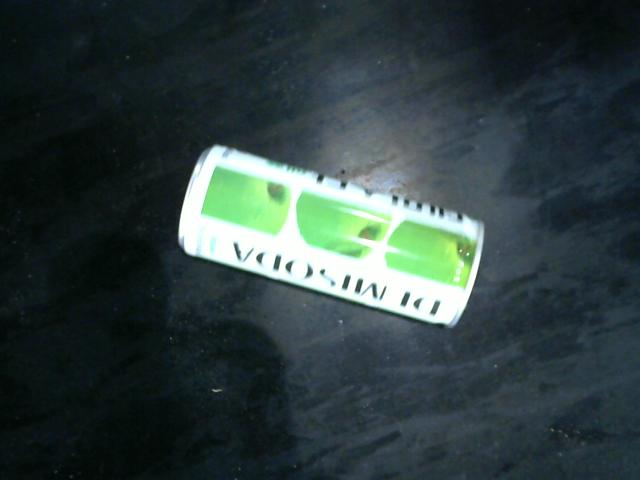can: (177, 142, 486, 331)
